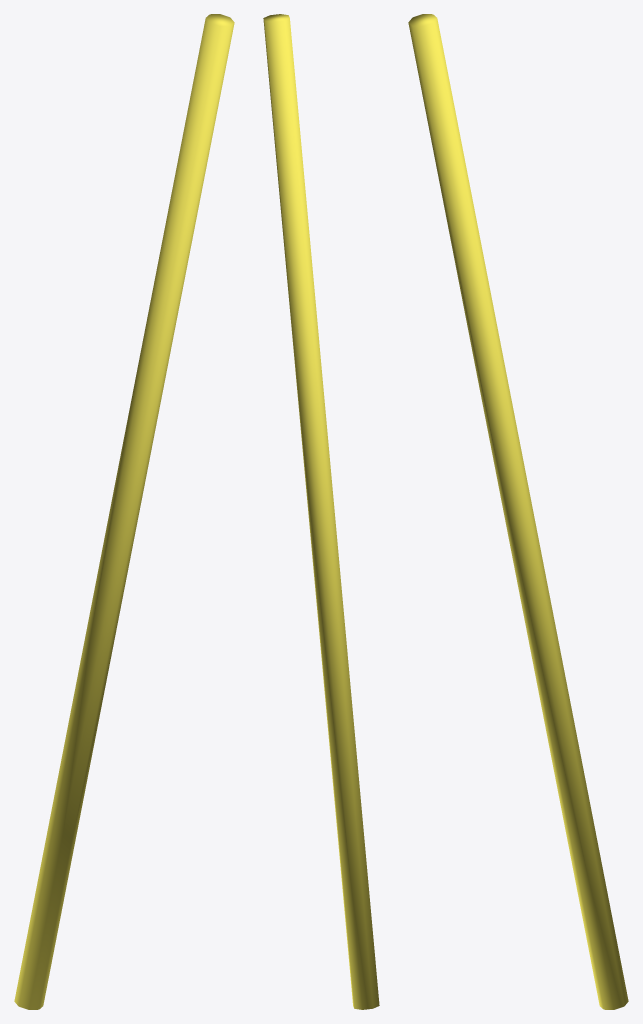
The model's file is engine_v8_dipstick.glb.
3 views of the same model, side by side, from view 1: azimuth 90°, elevation 25°; view 2: azimuth 210°, elevation 25°; view 3: azimuth 270°, elevation 25° (orthographic). The views are drawn at different scales.
Parts seen in each view (by area): view 1: Engine_V8_Dipstick; view 2: Engine_V8_Dipstick; view 3: Engine_V8_Dipstick.
Boxes of the visible parts, left/top/right/bottom form: Engine_V8_Dipstick: left=14, top=14, right=234, bottom=1009; Engine_V8_Dipstick: left=263, top=14, right=379, bottom=1009; Engine_V8_Dipstick: left=408, top=14, right=628, bottom=1009.
Bounding box in the file's own units: 0.008 × 0.2968 × 0.06.
